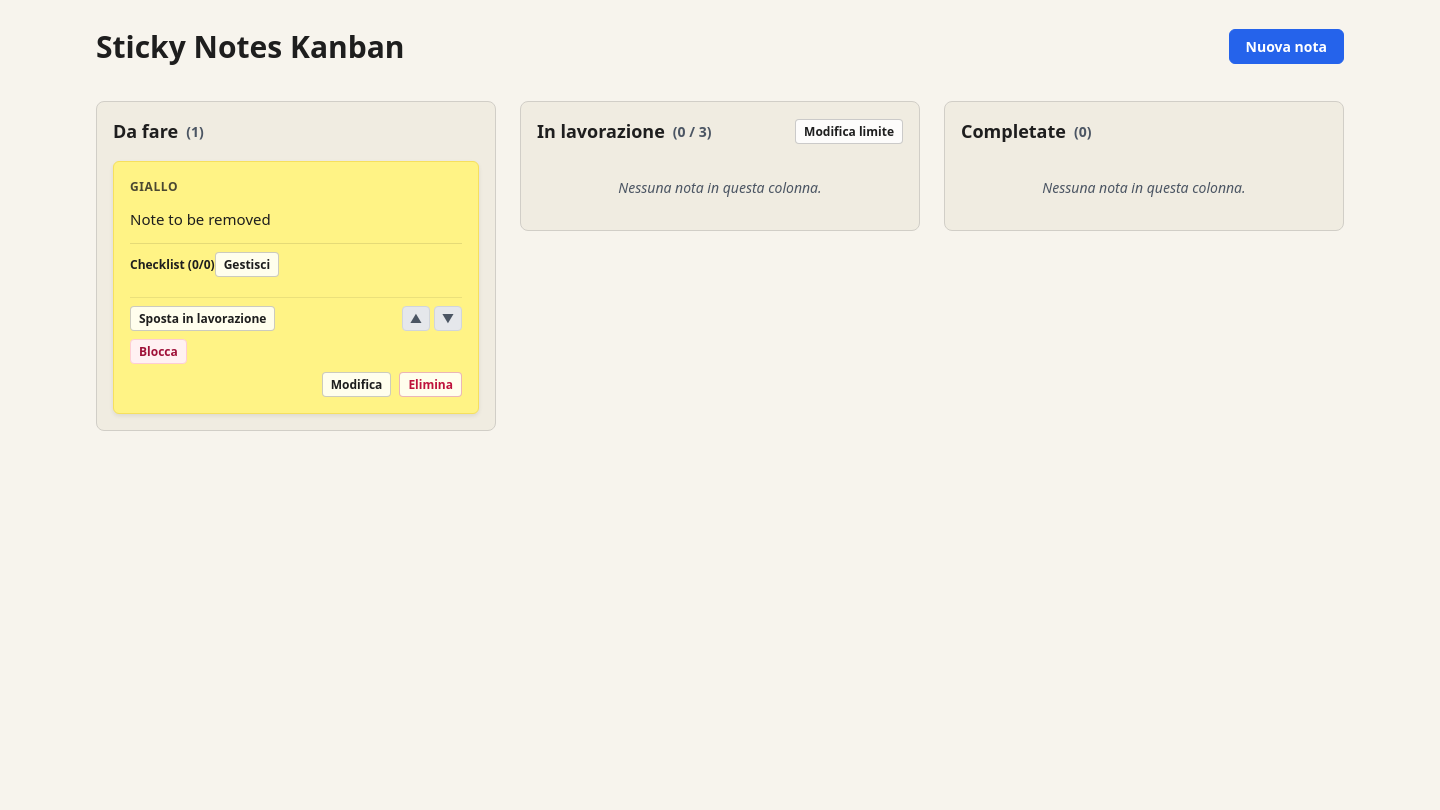
App.vue CRUD orchestration › deletes a note after confirmation
What coordinates should you click on to do the following:
click the button with aria-label "Elimina nota"
I would click on:
 (431, 384)
Its box is [399,372,462,396].
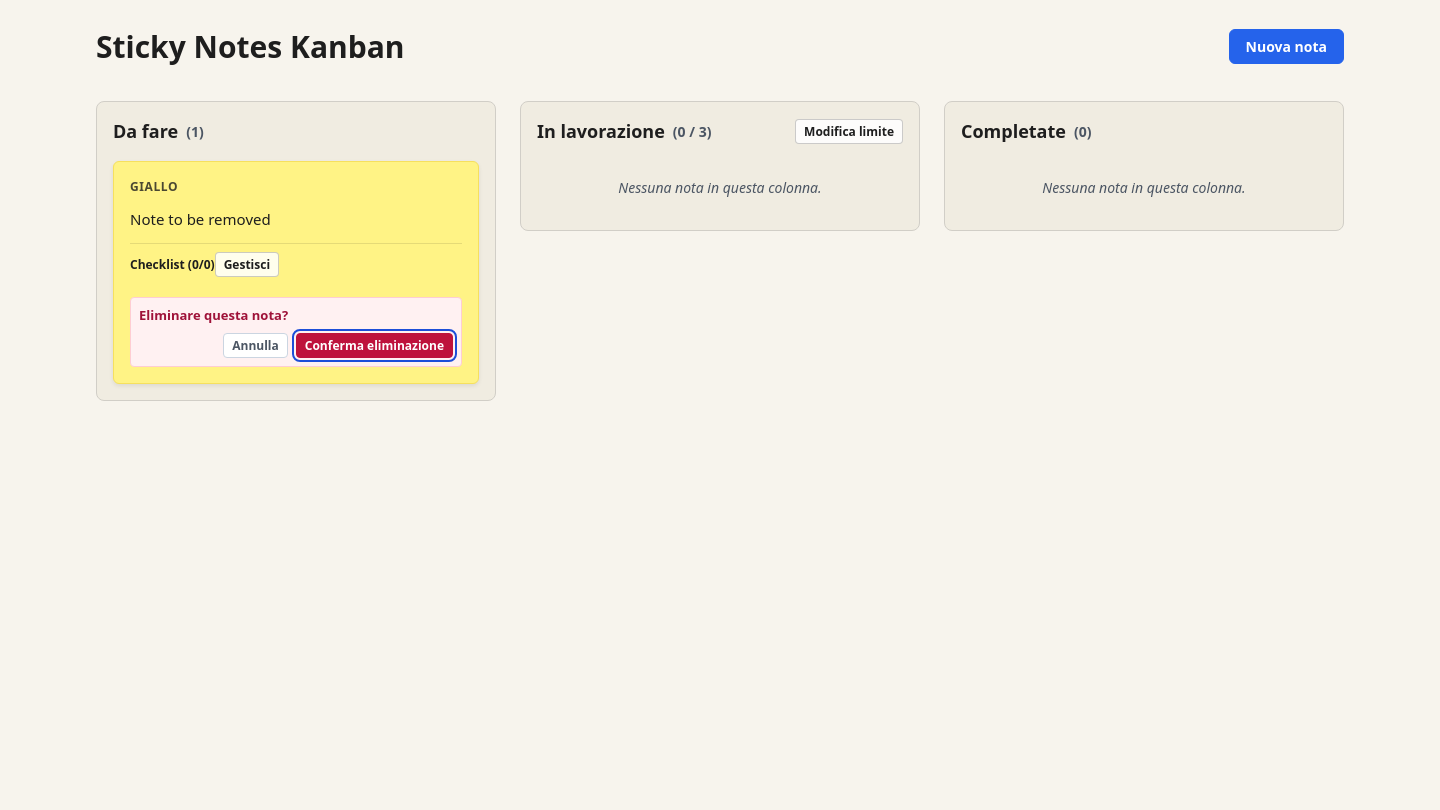
What coordinates should you click on to do the following:
click the button with class "btn--danger"
I would click on:
 (374, 346)
Its box is [296,333,453,358].
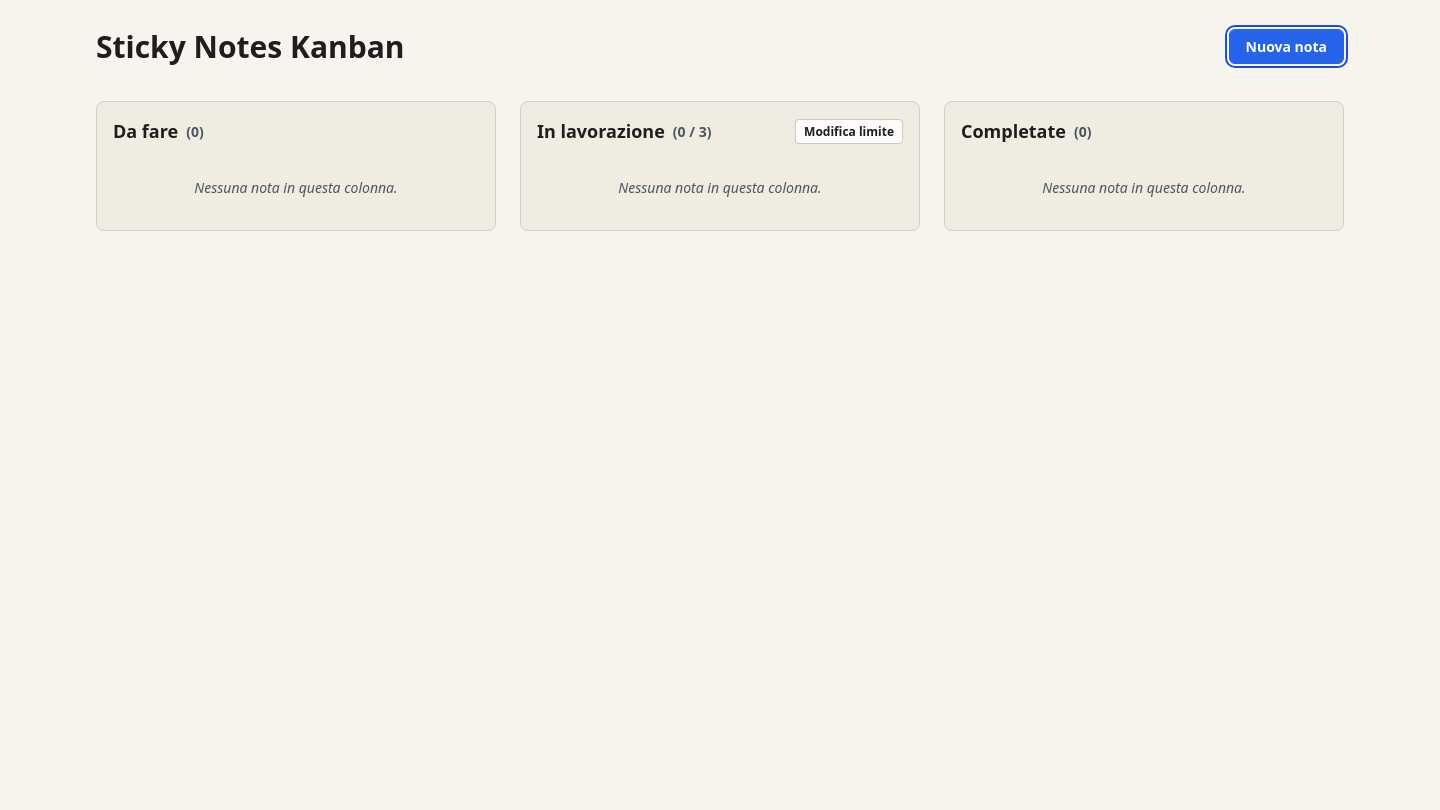
Check: the text "Note to be removed" is gone
